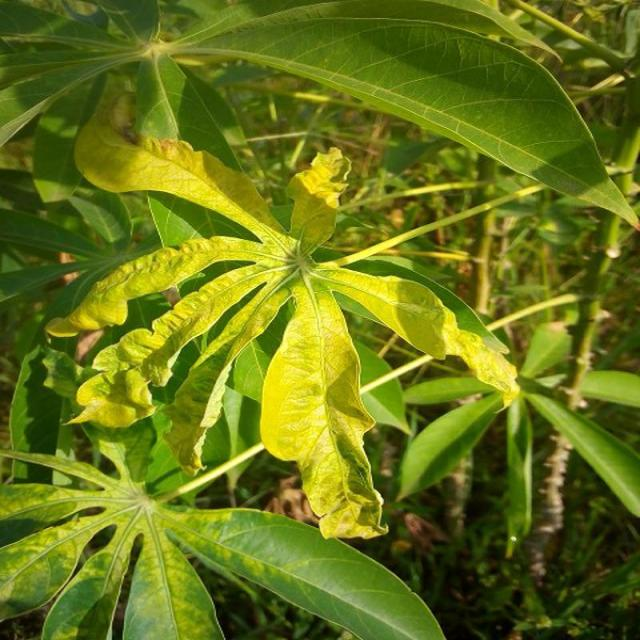cassava leaf: (46, 101, 520, 541)
